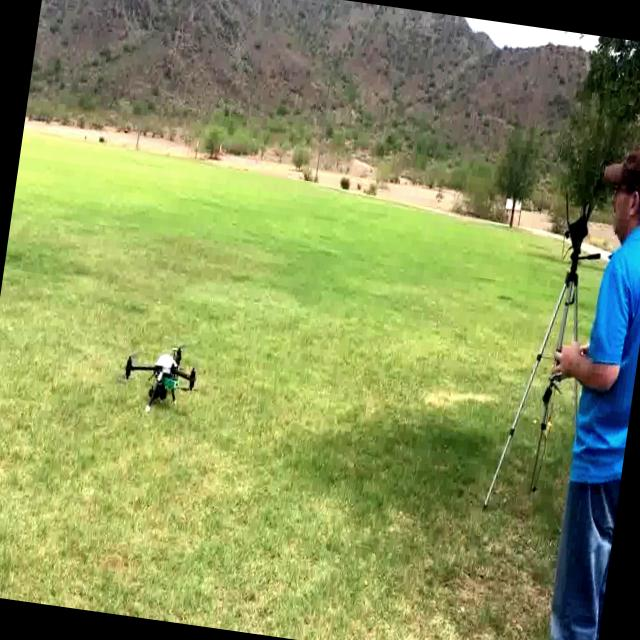drone: (117, 338, 210, 421)
